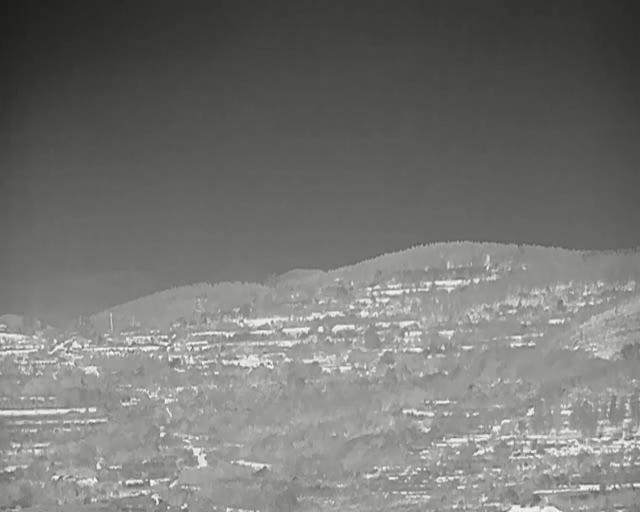uav: (173, 367, 187, 374)
